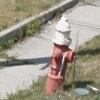Hydrant: (38, 13, 86, 99)
